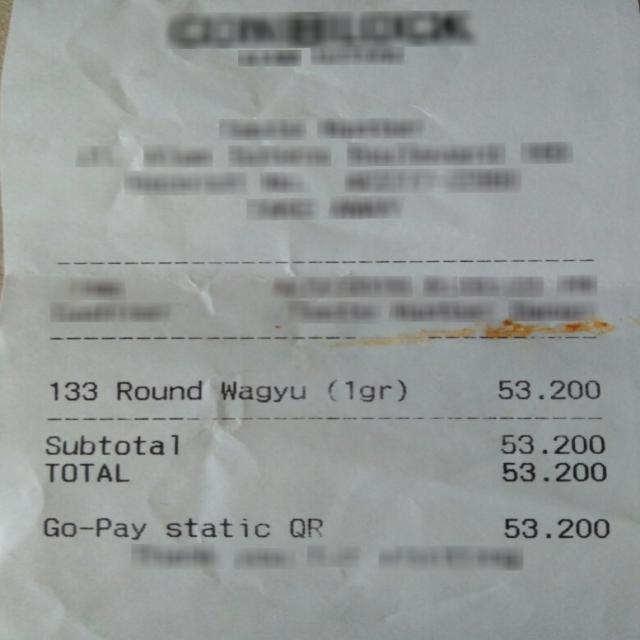text: (43, 434, 179, 456), (41, 517, 146, 540), (501, 461, 606, 483), (165, 516, 268, 538), (502, 518, 607, 538), (499, 434, 604, 453), (497, 380, 598, 399), (115, 379, 201, 400), (45, 462, 130, 482), (328, 379, 405, 401), (219, 381, 303, 401), (48, 382, 96, 399), (289, 517, 321, 537)
